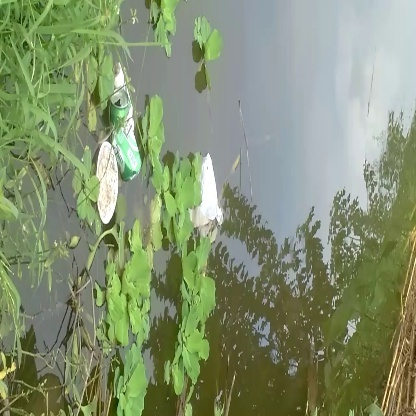bottle: (103, 89, 149, 181)
